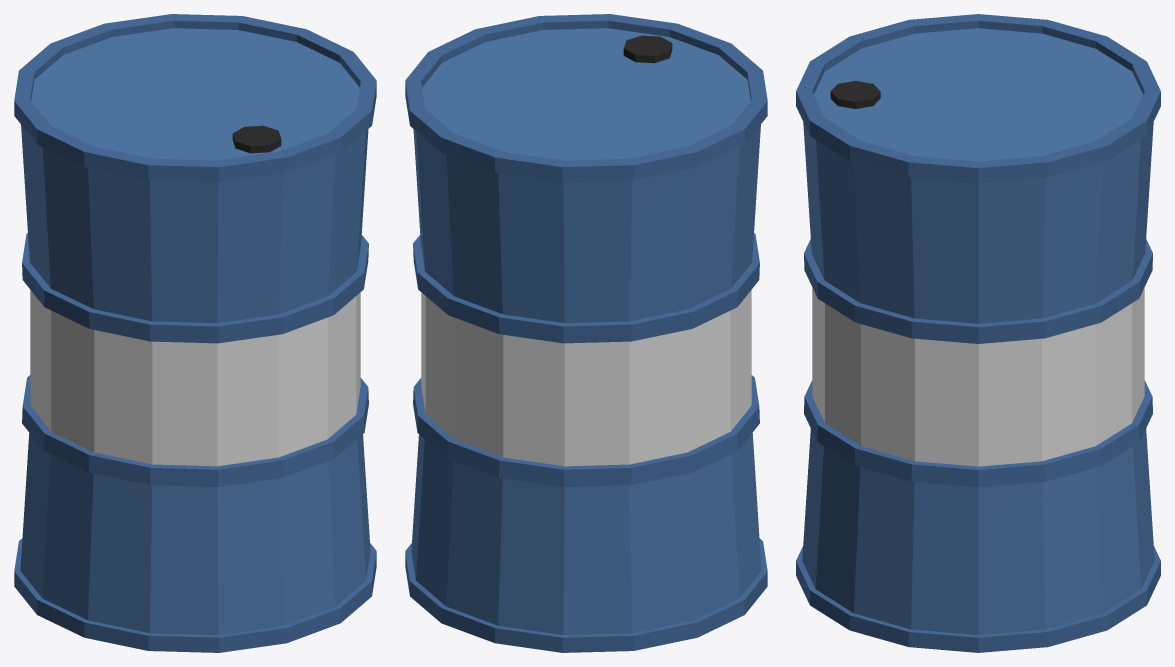
File: SM_IndustrialProps_Barrel_02.fbx
3 renders of one model, left to right at view 1: azimuth 30°, elevation 25°; view 2: azimuth 150°, elevation 25°; view 3: azimuth 270°, elevation 25°, orthographic.
Visible parts, largest first — view 1: SM_IndustrialProps_Barrel_02; view 2: SM_IndustrialProps_Barrel_02; view 3: SM_IndustrialProps_Barrel_02.
Part boxes in pixels (x1,y1,x2,y2): SM_IndustrialProps_Barrel_02: (14,14,376,652); SM_IndustrialProps_Barrel_02: (405,14,767,652); SM_IndustrialProps_Barrel_02: (796,14,1160,652).
Bounding box in the file's own units: 0.6002 × 0.88 × 0.6002.
